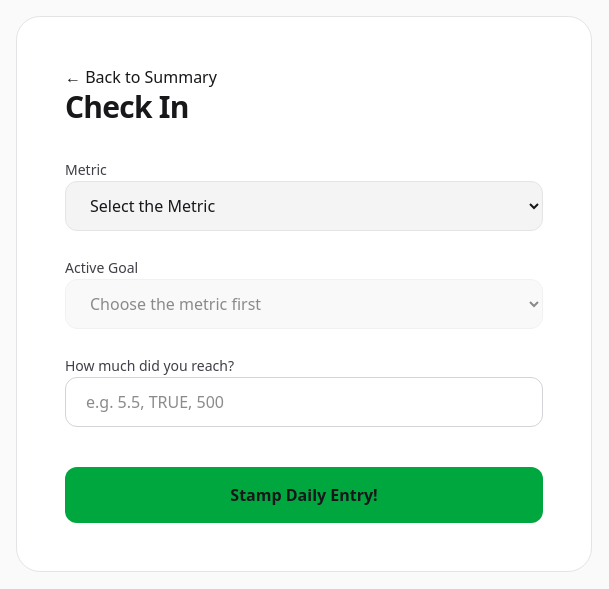
Scenario: LogForm — placeholder com valor_padrao da métrica › inclui valor_padrao no placeholder do campo valor_logado quando a meta tem métrica com valor_padrao
Note: Seleciona a métrica (currency) no select de cima — o placeholder herda o tipo dela.
Select "Receita" in the dropdown below "Metric" at point(304, 206), box [65, 181, 543, 231]
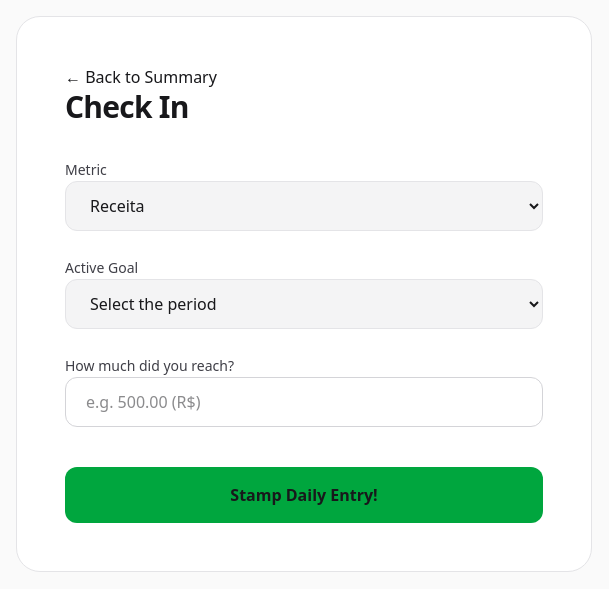
Check: the field with placeholder "e.g. 500.00 (R$)" is shown, box [65, 377, 543, 427]
